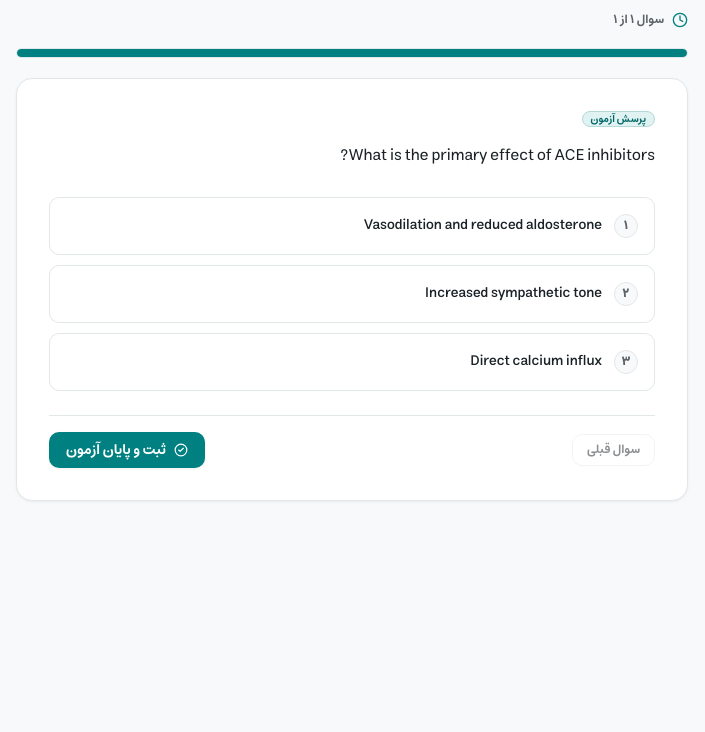
Test: Quiz Experience Flow › steps through questions and submits attempt with score display
Expected: the text "What is the primary effect of ACE inhibitors?" is shown, [340,141,655,169]
// Select choice A
Click the text "Vasodilation and reduced aldosterone". click: x=483, y=225
box: [364,213,602,237]
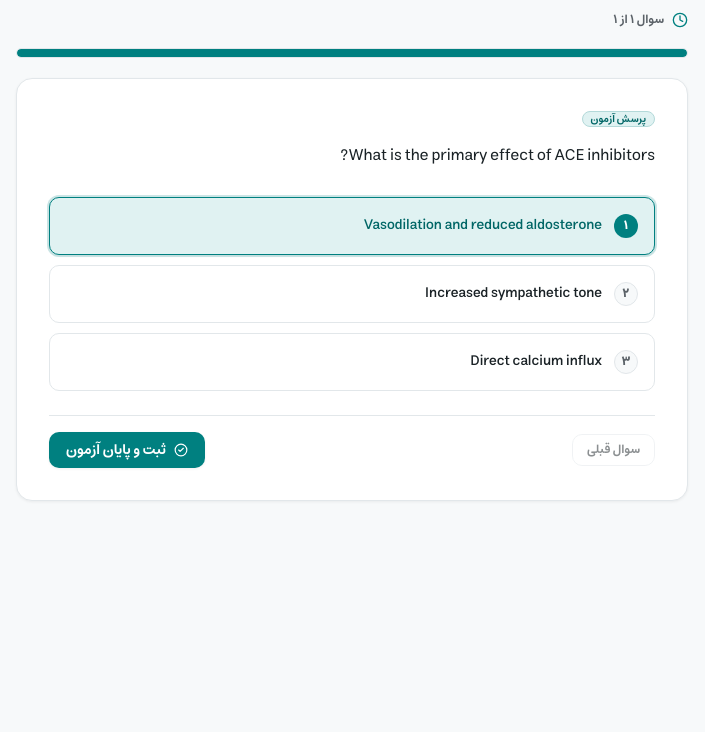
// Submit quiz
Click the button "ثبت و پایان آزمون". click: x=127, y=450
box: [49,432,205,468]
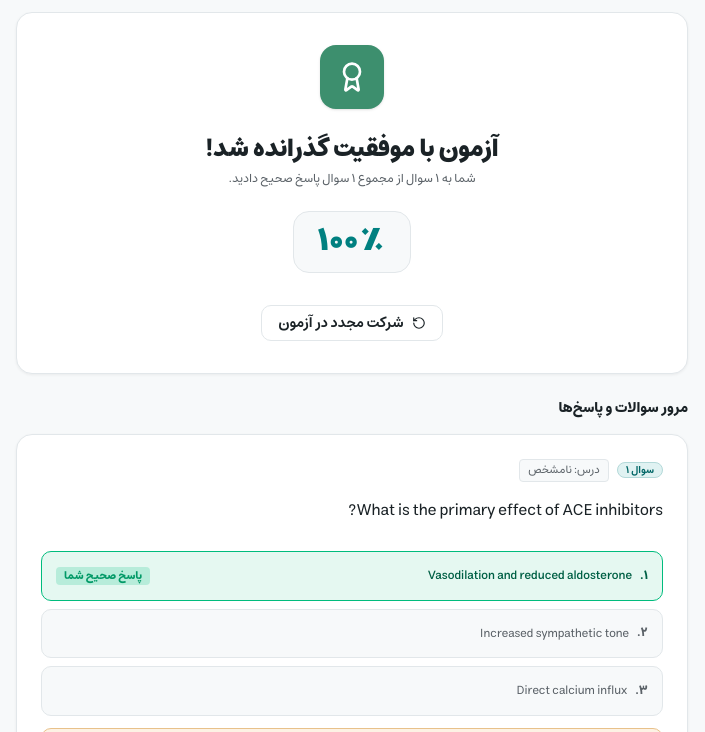
Expected: the heading "آزمون با موفقیت گذرانده شد!" is shown, [205,128,499,170]
Expected: the text "۱۰۰٪" is shown, [318,224,386,260]
